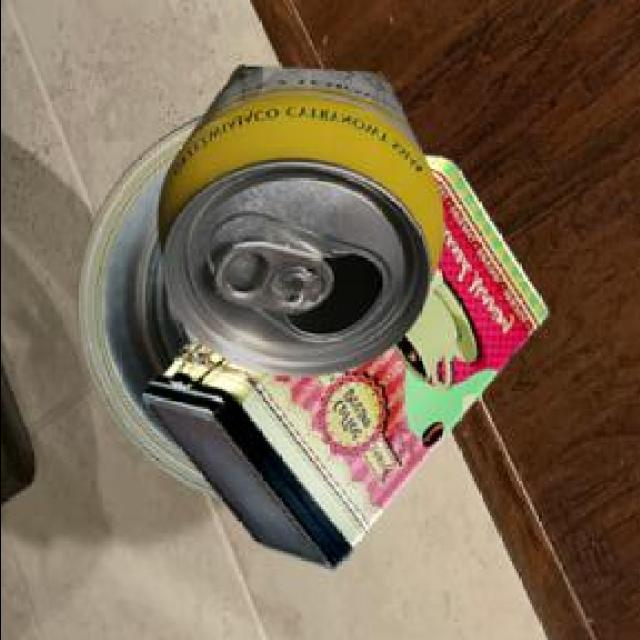logam: (139, 152, 543, 566), (154, 61, 439, 372), (72, 112, 217, 493)
